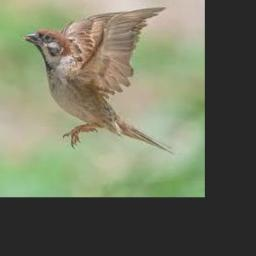Sparrow: (22, 7, 175, 153)
